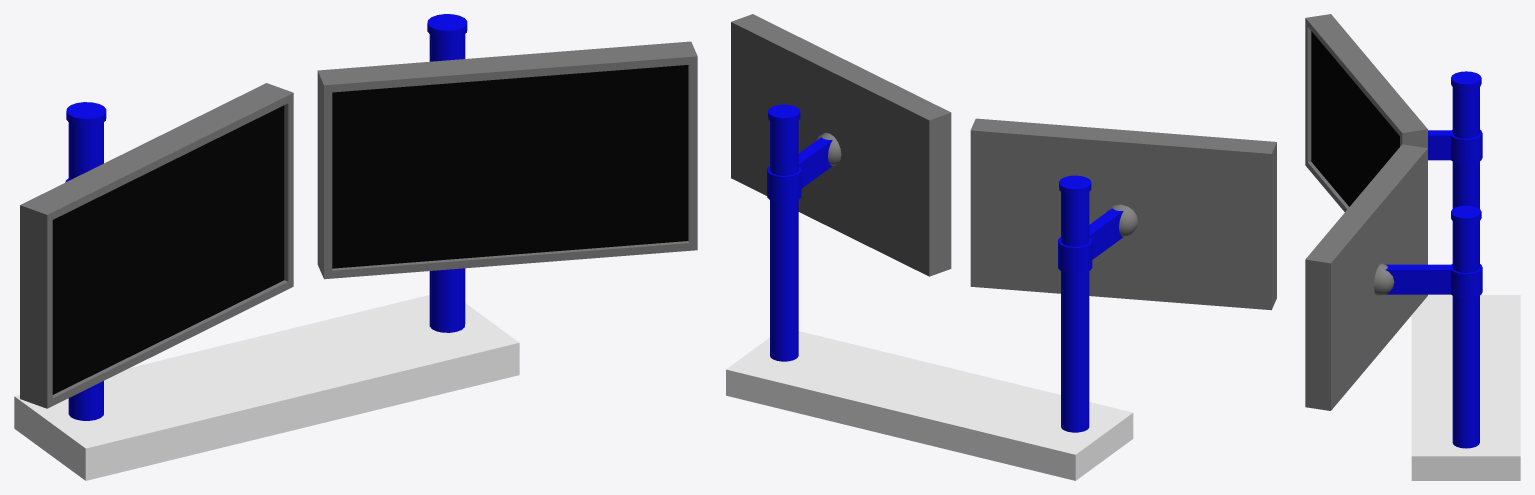
File: Screens.fbx
The picture shows the model from 3 angles, left to right: view 1: azimuth 30°, elevation 25°; view 2: azimuth 150°, elevation 25°; view 3: azimuth 270°, elevation 25°; orthographic projection. The views are drawn at different scales.
Visible parts, largest first — view 1: Screen, Base, Support; view 2: Screen, Base, Support, Arm; view 3: Screen, Base, Support, Arm.
Part boxes in pixels (<box>): Screen: <box>20,41,697,408</box>; Base: <box>14,295,519,480</box>; Support: <box>66,14,467,420</box>; Screen: <box>731,14,1276,310</box>; Base: <box>726,331,1133,480</box>; Support: <box>768,104,1091,432</box>; Arm: <box>767,137,1123,274</box>; Screen: <box>1305,14,1427,410</box>; Base: <box>1411,295,1520,480</box>; Support: <box>1451,71,1481,448</box>; Arm: <box>1385,130,1482,298</box>.
Bounding box in the file's own units: 42.64 × 20.86 × 15.57.
